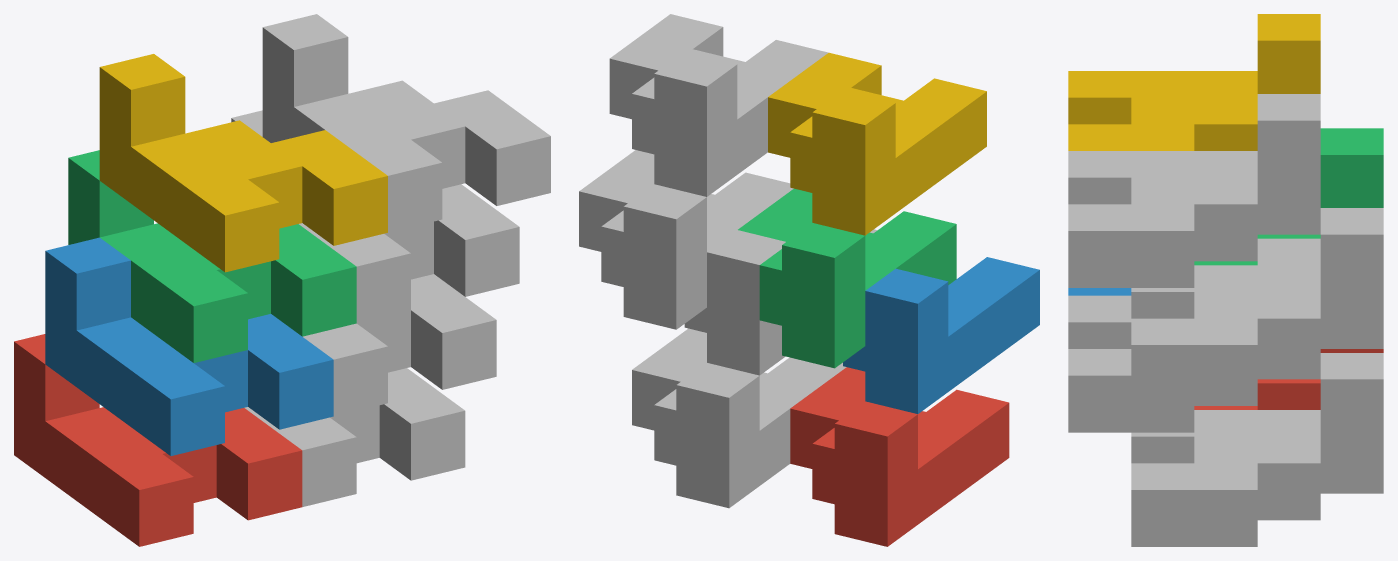
The model's file is tiling.obj.
3 views of the same model, side by side, from view 1: azimuth 30°, elevation 25°; view 2: azimuth 150°, elevation 25°; view 3: azimuth 270°, elevation 25° (orthographic). The views are drawn at different scales.
Parts seen in each view (by area): view 1: copy_1_domain_4, copy_1_domain_2, copy_1_domain_8, copy_1_domain_1, copy_1_domain_3, copy_1_domain_6, copy_1_domain_7, copy_1_domain_5; view 2: copy_1_domain_4, copy_1_domain_1, copy_1_domain_8, copy_1_domain_5, copy_1_domain_3, copy_1_domain_7, copy_1_domain_2, copy_1_domain_6; view 3: copy_1_domain_8, copy_1_domain_7, copy_1_domain_5, copy_1_domain_4, copy_1_domain_6, copy_1_domain_3, copy_1_domain_1, copy_1_domain_2.
Part boxes in pixels (x1,y1,x2,y2): copy_1_domain_4: [99, 54, 387, 272]; copy_1_domain_2: [45, 237, 333, 455]; copy_1_domain_8: [262, 14, 550, 232]; copy_1_domain_1: [14, 334, 302, 546]; copy_1_domain_3: [68, 150, 356, 362]; copy_1_domain_6: [303, 274, 496, 416]; copy_1_domain_7: [231, 110, 519, 323]; copy_1_domain_5: [244, 368, 465, 506]; copy_1_domain_4: [768, 52, 986, 235]; copy_1_domain_1: [790, 367, 1009, 546]; copy_1_domain_8: [609, 14, 828, 196]; copy_1_domain_5: [632, 328, 846, 508]; copy_1_domain_3: [738, 188, 956, 368]; copy_1_domain_7: [579, 150, 793, 329]; copy_1_domain_2: [843, 257, 1039, 413]; copy_1_domain_6: [684, 229, 877, 375]; copy_1_domain_8: [1068, 94, 1320, 287]; copy_1_domain_7: [1131, 208, 1383, 402]; copy_1_domain_5: [1131, 353, 1383, 546]; copy_1_domain_4: [1068, 14, 1320, 150]; copy_1_domain_6: [1068, 238, 1320, 432]; copy_1_domain_3: [1194, 128, 1383, 265]; copy_1_domain_1: [1194, 349, 1383, 409]; copy_1_domain_2: [1068, 288, 1131, 295].
Size of the model in its own units: 7 by 7 by 5.
